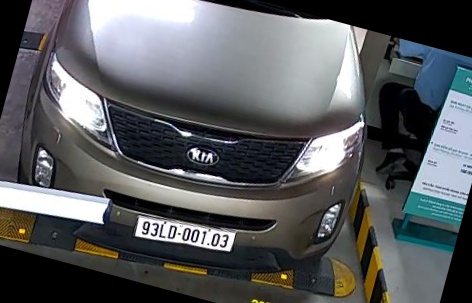plate: (127, 209, 236, 257)
